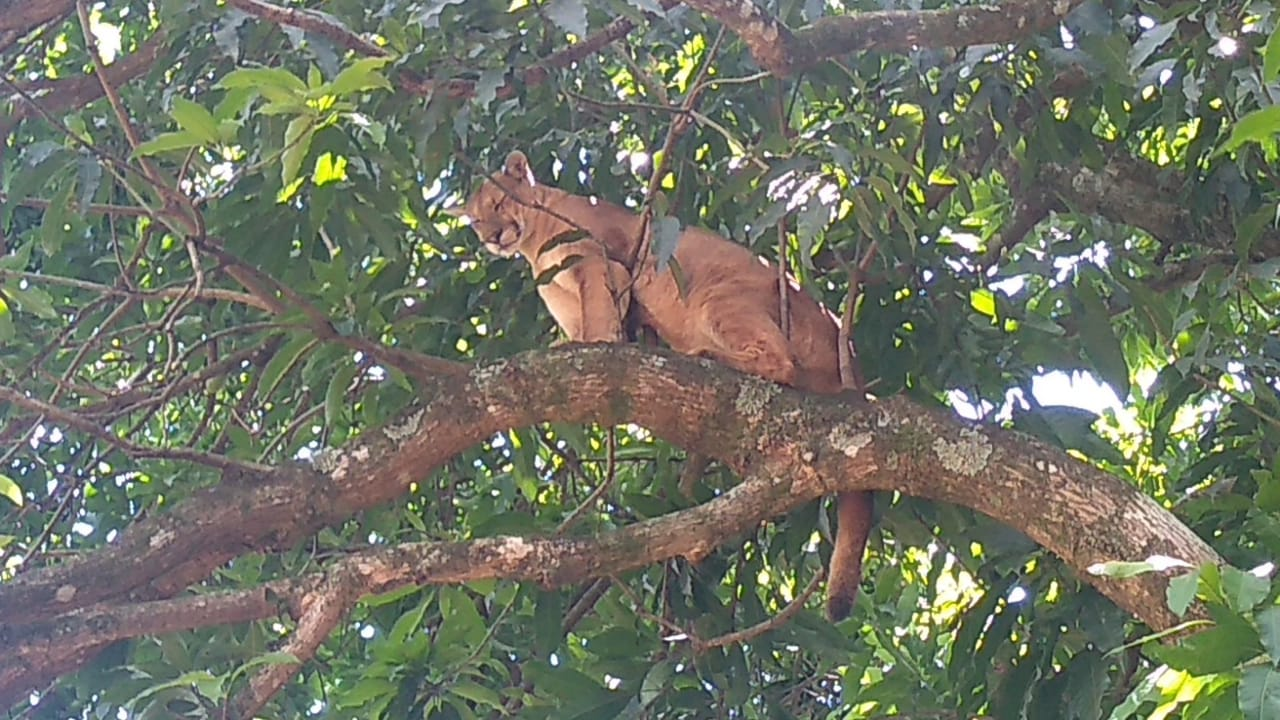OncaParda: (428, 144, 884, 625)
